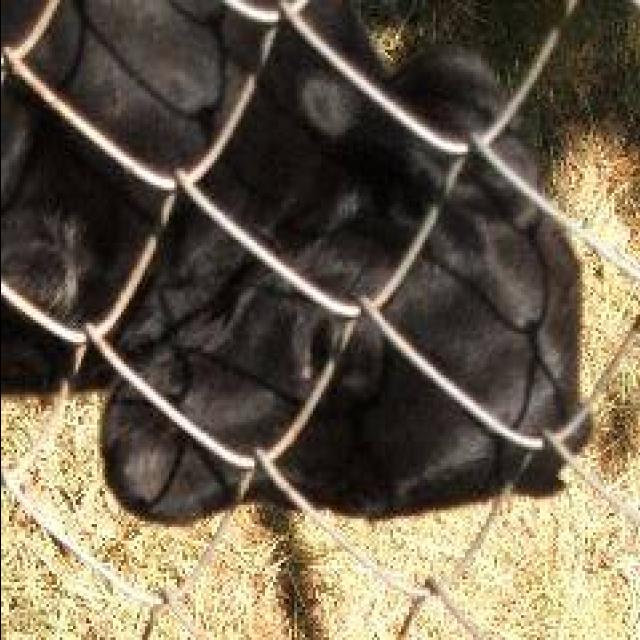dog: (1, 0, 618, 593)
